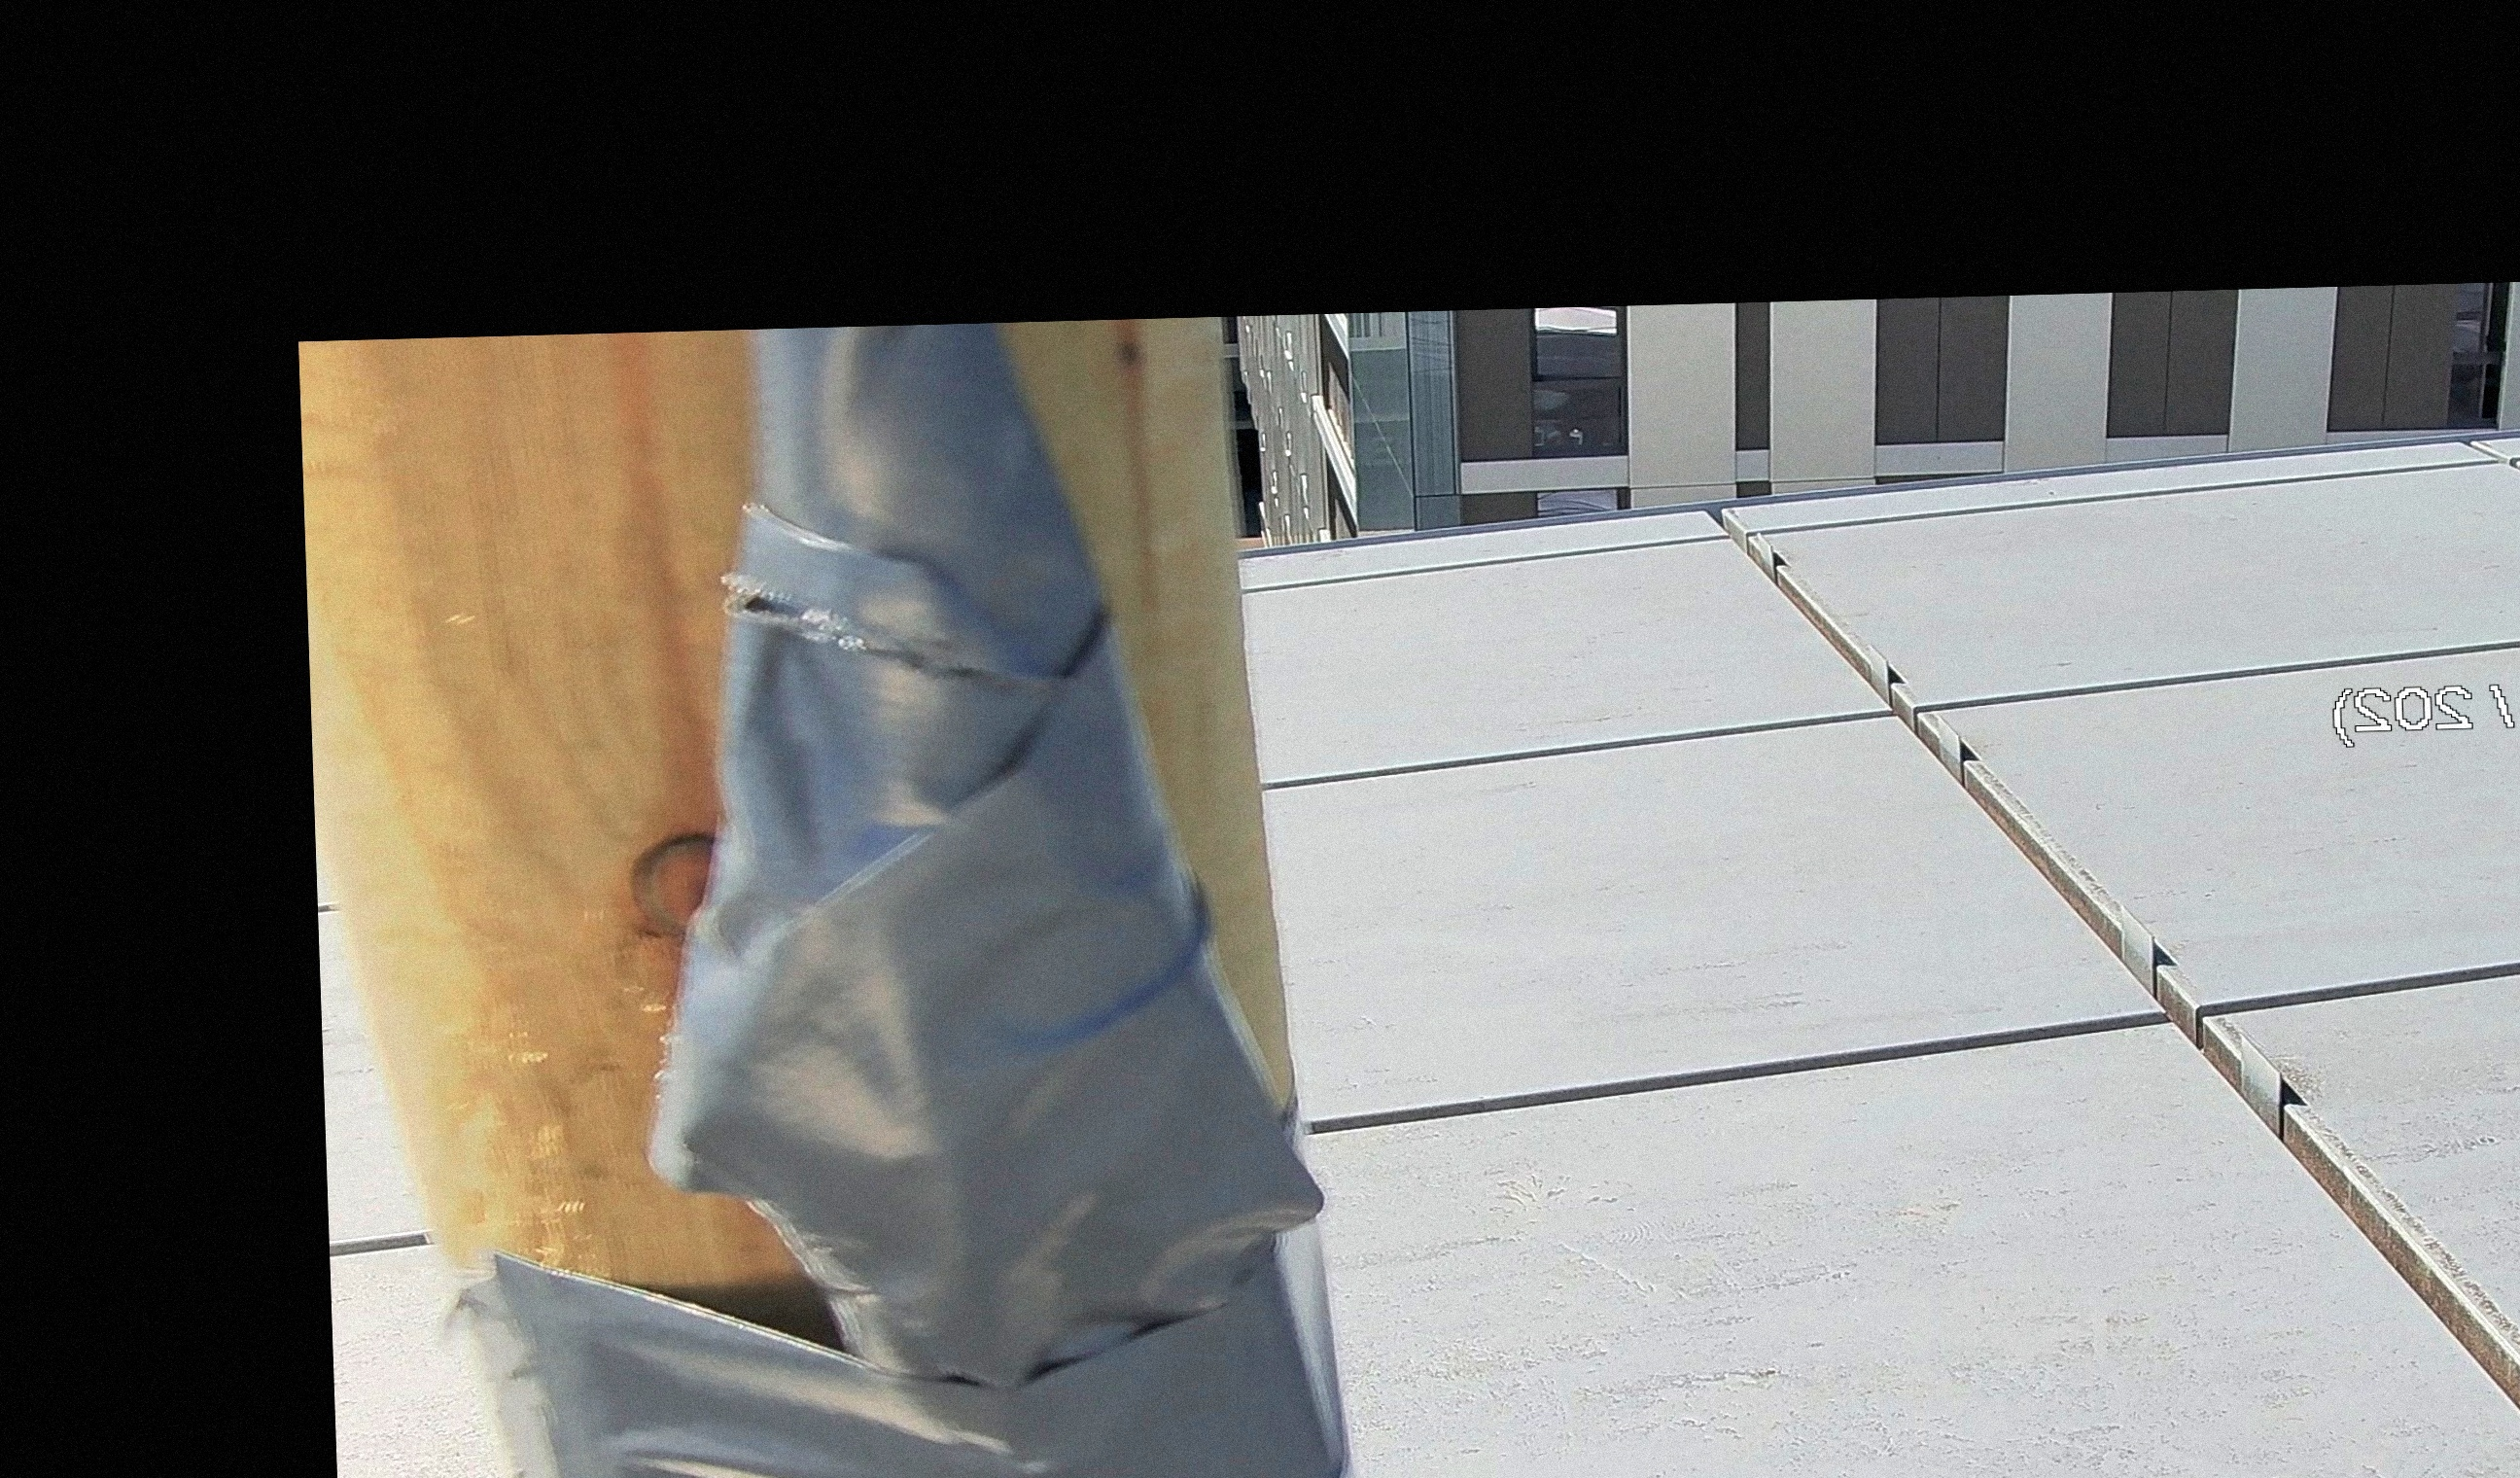Other: (572, 421, 1329, 1399)
